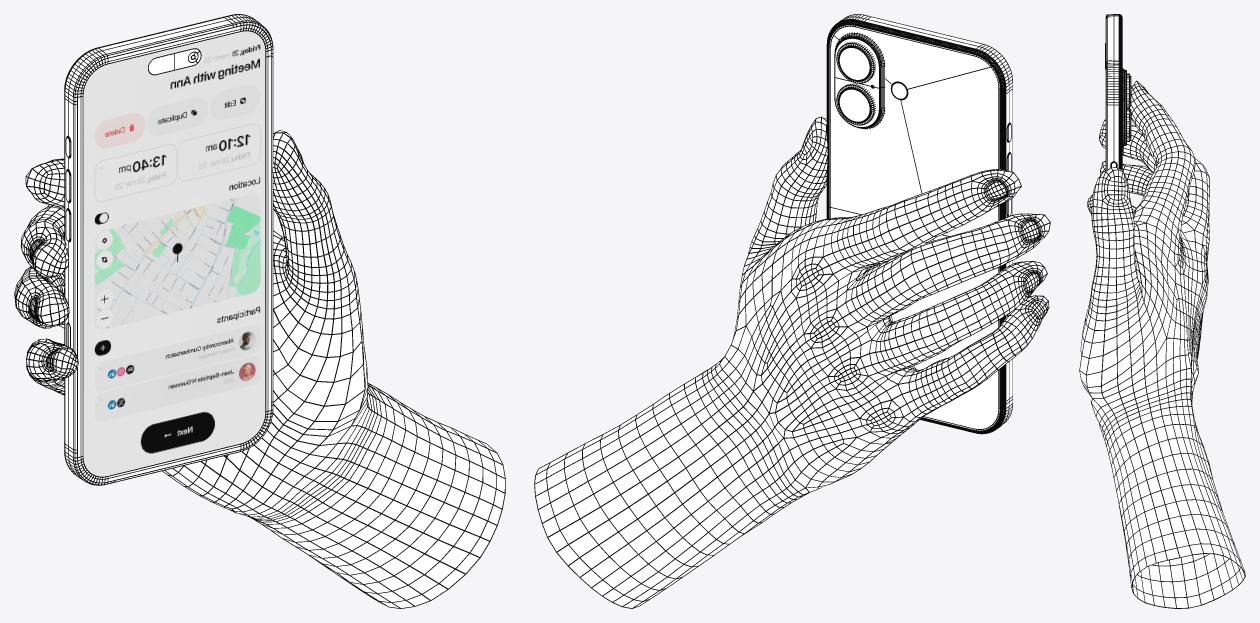
Rendered from hand14.glb.
3 views of the same model, side by side, from view 1: azimuth 30°, elevation 25°; view 2: azimuth 150°, elevation 25°; view 3: azimuth 270°, elevation 25° (orthographic). The views are drawn at different scales.
Visible parts, largest first — view 1: Ip16_black.008, 038F_05SET_04SHOT.003, Ip16_black.007; view 2: 038F_05SET_04SHOT.003, Ip16_black.007; view 3: 038F_05SET_04SHOT.003, Ip16_black.007.
Part boxes in pixels (<box>): Ip16_black.008: <box>83,31,265,476</box>; 038F_05SET_04SHOT.003: <box>14,130,505,608</box>; Ip16_black.007: <box>64,14,273,485</box>; 038F_05SET_04SHOT.003: <box>534,116,1050,608</box>; Ip16_black.007: <box>826,14,1012,434</box>; 038F_05SET_04SHOT.003: <box>1079,80,1245,608</box>; Ip16_black.007: <box>1105,14,1131,170</box>.
Size of the model in its own units: 19.61 by 24.39 by 7.7.
Materials: 4 (1 with a texture image).
